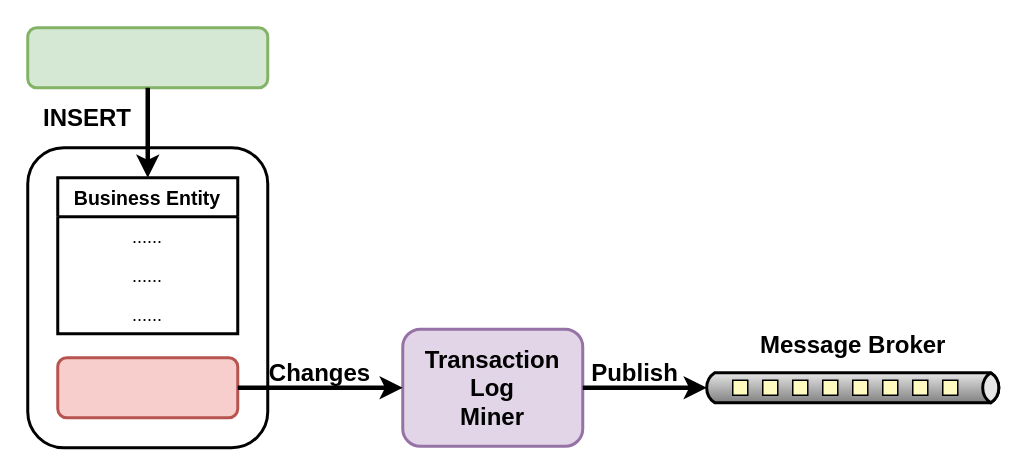
The diagram is 1029 pixels wide and 474 high, and some of its shapes have lost their labels. Here are the shapes that lost their labels. From the top down, the centre of each, then its label:
At pixel 147 57: "Service".
At pixel 147 387: "Transaction Log".
